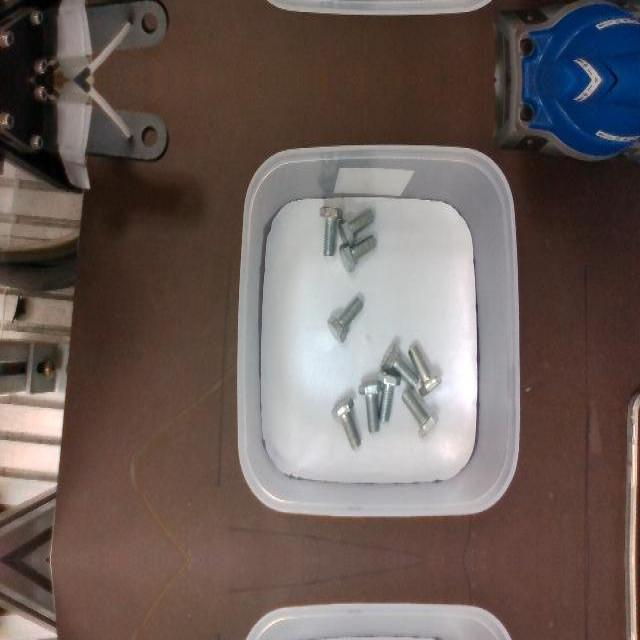screw: (400, 388, 438, 438), (382, 341, 419, 387), (407, 345, 441, 395), (327, 295, 363, 341), (330, 397, 360, 449), (340, 235, 377, 273), (338, 209, 374, 247), (357, 379, 381, 433), (376, 371, 400, 421), (320, 206, 343, 256)
